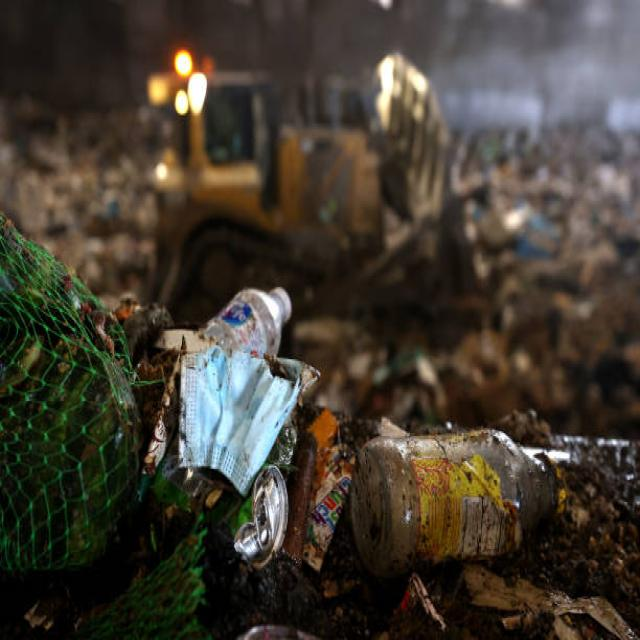glass: (372, 438, 563, 555)
plastic: (198, 276, 292, 366)
